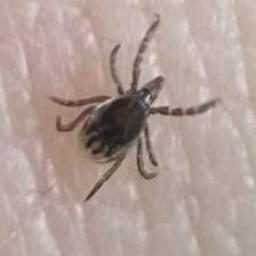Ixodes scapularis: (157, 16, 256, 187)
